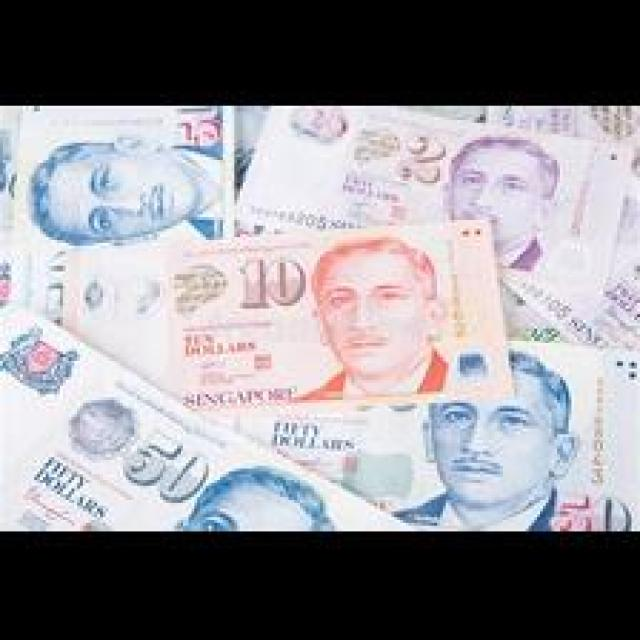banknote: (0, 103, 637, 534), (0, 305, 426, 532), (56, 228, 512, 408), (266, 104, 630, 326), (259, 336, 632, 528), (0, 104, 237, 244), (122, 426, 215, 507), (25, 449, 113, 523), (231, 252, 311, 318), (264, 412, 367, 456), (547, 484, 637, 530), (163, 111, 234, 159), (402, 129, 452, 197), (178, 323, 262, 362)
